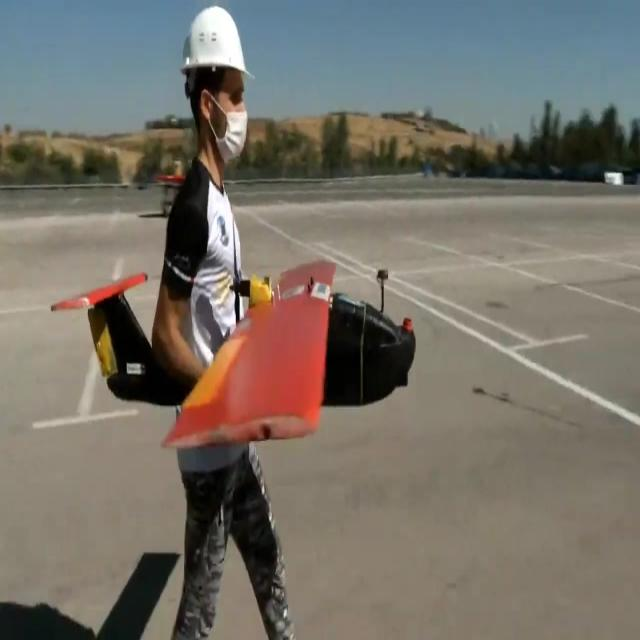iha: (47, 258, 417, 454)
